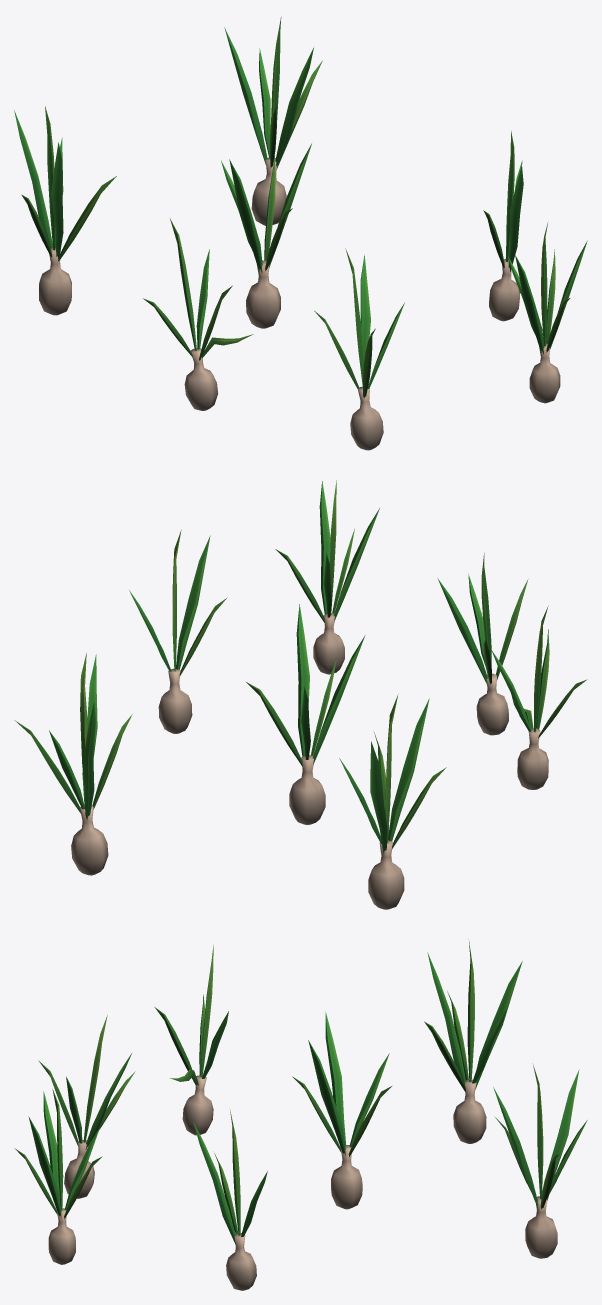
Rendered from SM_Plant_Onion_Lv2.fbx.
The picture shows the model from 3 angles, top to bottom: view 1: azimuth 30°, elevation 25°; view 2: azimuth 150°, elevation 25°; view 3: azimuth 270°, elevation 25°; orthographic projection. The views are drawn at different scales.
Parts seen in each view (by area): view 1: SM_Plant_Onion_Lv2; view 2: SM_Plant_Onion_Lv2; view 3: SM_Plant_Onion_Lv2.
Part boxes in pixels (left/top/right/bottom): SM_Plant_Onion_Lv2: left=14, top=16, right=587, bottom=450; SM_Plant_Onion_Lv2: left=14, top=480, right=587, bottom=909; SM_Plant_Onion_Lv2: left=14, top=939, right=587, bottom=1290.
Size of the model in its own units: 54.26 by 27.56 by 69.24.
